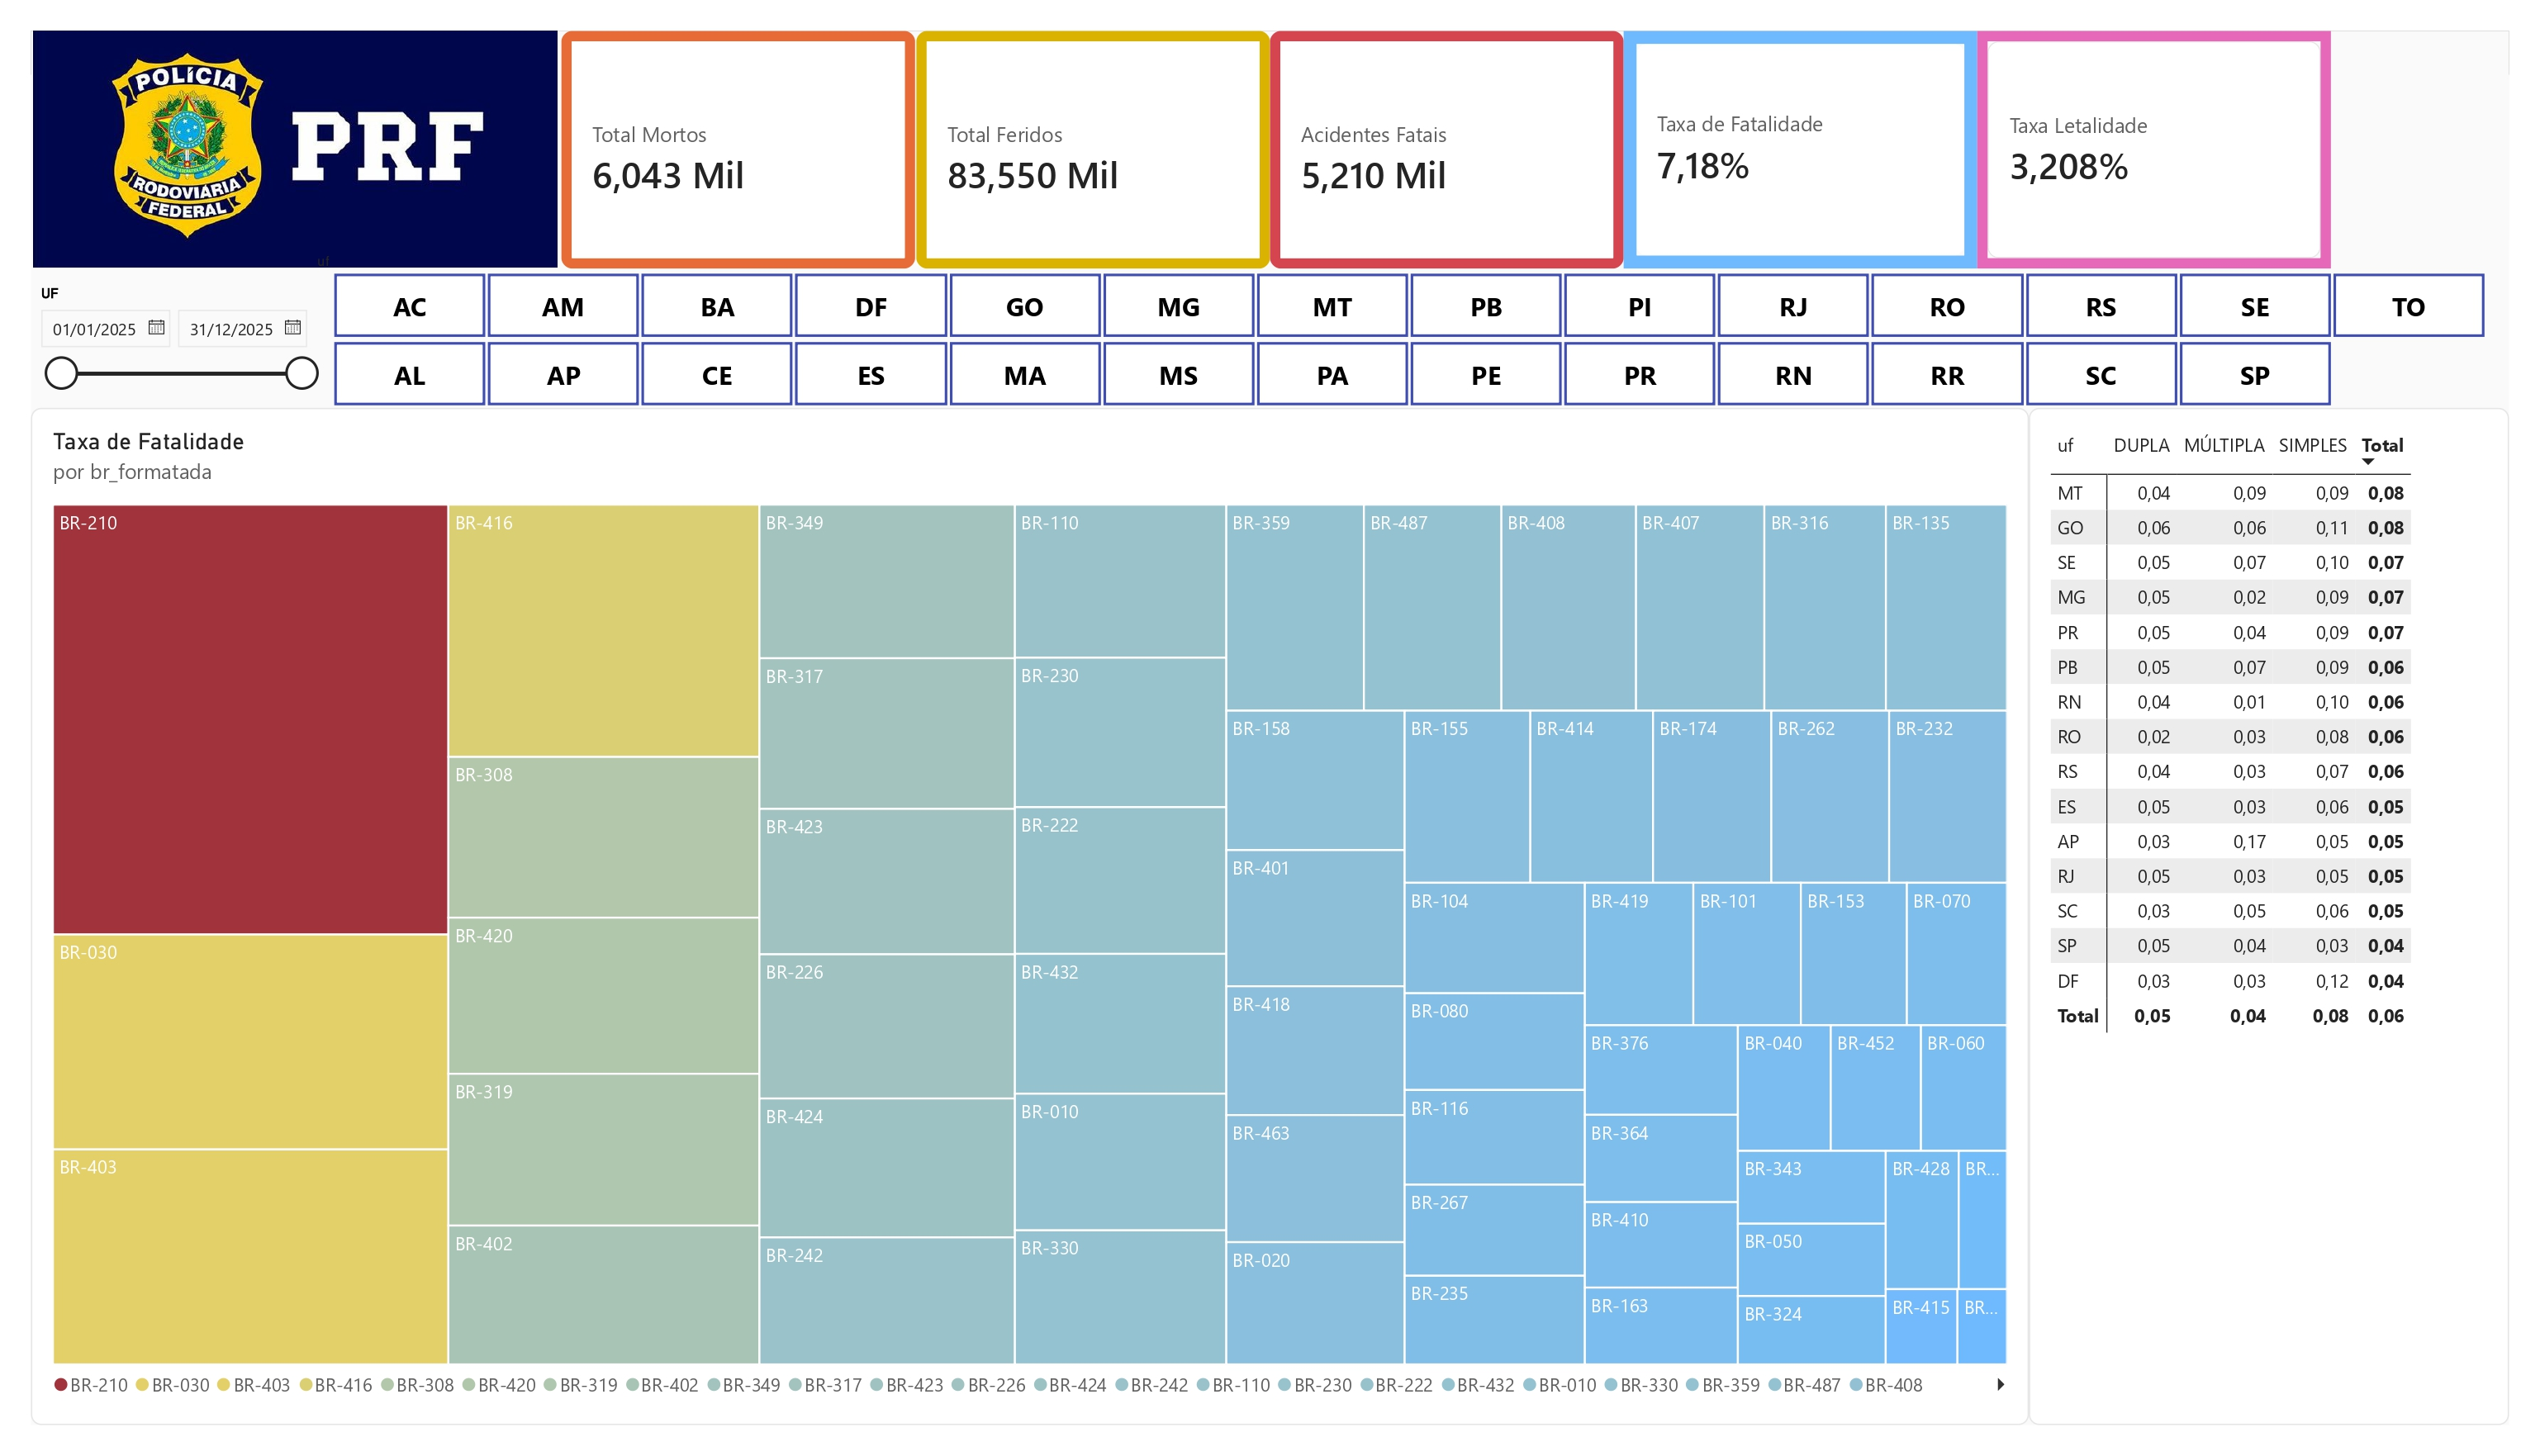

The dashboard page shown, as its layout file describes it:
{"tool":"powerbi","page":{"name":"Treemap e Matriz de Calor","canvas":[1920,1080],"ordinal":8},"visuals":[{"type":"image","box":[0,0,410.3,183.2],"z":0},{"type":"cardVisual","fields":{"Data":["base_analitica_prf_2025.Total_Mortos"]},"box":[411,0,274,184],"z":1000},{"type":"cardVisual","fields":{"Data":["base_analitica_prf_2025.Total_Feridos"]},"box":[686.3,0,274,184],"z":2000},{"type":"cardVisual","fields":{"Data":["base_analitica_prf_2025.Acidentes_Fatais"]},"box":[960.3,0,274,184],"z":3000},{"type":"cardVisual","fields":{"Data":["base_analitica_prf_2025.Porcentagem_Fatal"]},"box":[1234.3,0,274,184],"z":4000},{"type":"cardVisual","fields":{"Data":["base_analitica_prf_2025.Taxa Letalidade"]},"box":[1508.3,0,274,184],"z":5000},{"type":"slicer","fields":{"Values":["base_analitica_prf_2025.uf"]},"box":[214.5,172.2,1705.5,119.6],"z":6000},{"type":"slicer","fields":{"Values":["base_analitica_prf_2025.data_inversa"]},"box":[0,197,226.1,125.5],"z":7000},{"type":"treemap","fields":{"Group":["base_analitica_prf_2025.br_formatada"],"Values":["base_analitica_prf_2025.Taxa de Fatalidade"]},"box":[0,291.8,1548,787.8],"z":7001},{"type":"pivotTable","fields":{"Columns":["base_analitica_prf_2025.tipo_pista"],"Rows":["base_analitica_prf_2025.uf"],"Values":["base_analitica_prf_2025.Taxa de Fatalidade"]},"box":[1548,291.8,372,787.8],"z":7002}]}

Visuals, with their boxes on the page's 1920x1080 design canvas (x1, y1, x2, y2). These are canvas units, not pixel positions in the 2540x1456 screenshot, which may show the page scaled, cropped or inside an application window:
image: box(0, 0, 410, 183)
cardVisual - base_analitica_prf_2025.Total_Mortos: box(411, 0, 685, 184)
cardVisual - base_analitica_prf_2025.Total_Feridos: box(686, 0, 960, 184)
cardVisual - base_analitica_prf_2025.Acidentes_Fatais: box(960, 0, 1234, 184)
cardVisual - base_analitica_prf_2025.Porcentagem_Fatal: box(1234, 0, 1508, 184)
cardVisual - base_analitica_prf_2025.Taxa Letalidade: box(1508, 0, 1782, 184)
slicer - base_analitica_prf_2025.uf: box(214, 172, 1920, 292)
slicer - base_analitica_prf_2025.data_inversa: box(0, 197, 226, 322)
treemap - base_analitica_prf_2025.br_formatada x base_analitica_prf_2025.Taxa de Fatalidade: box(0, 292, 1548, 1080)
pivotTable - base_analitica_prf_2025.tipo_pista x base_analitica_prf_2025.uf: box(1548, 292, 1920, 1080)
